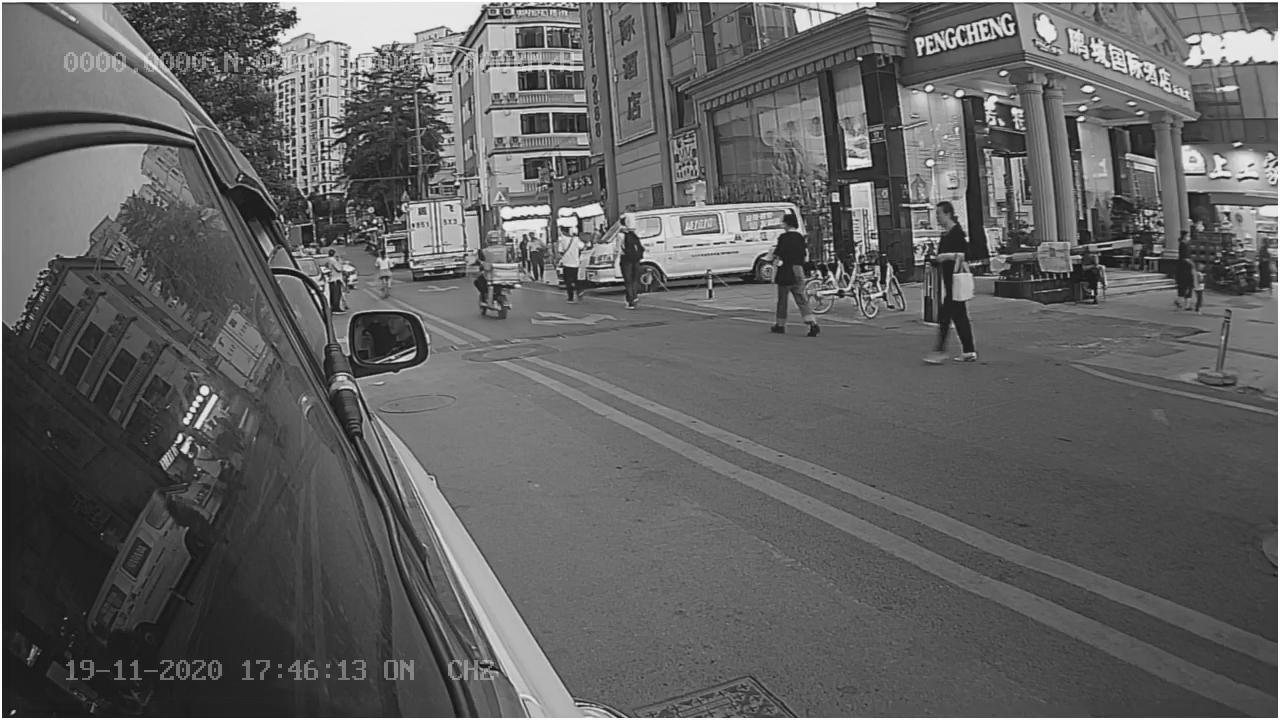person: (912, 194, 987, 371)
